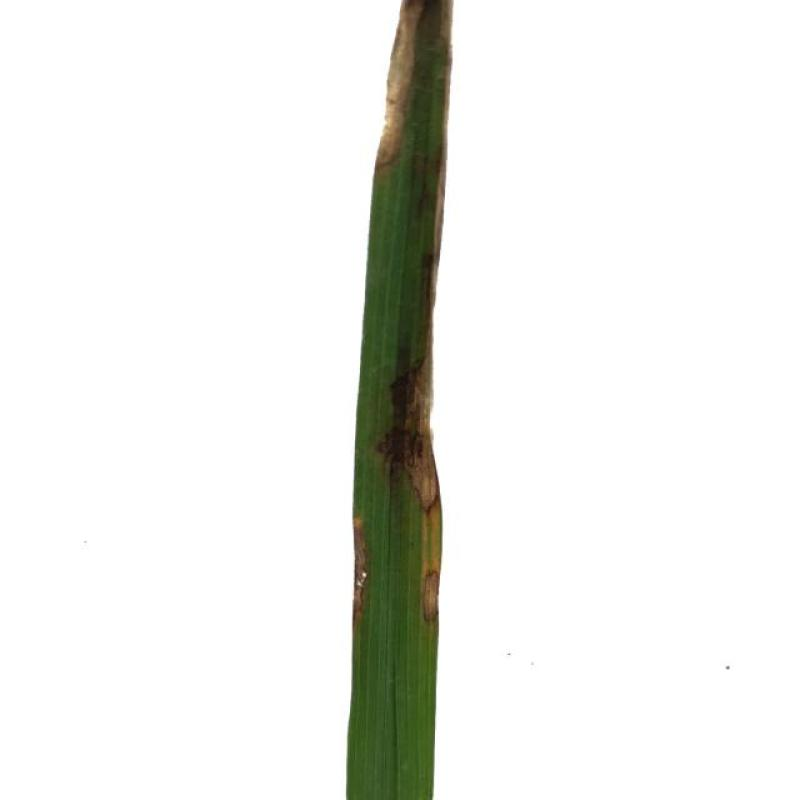Bacterial_Leaf_Blight: (384, 3, 458, 184), (408, 458, 452, 622), (381, 325, 431, 469), (353, 509, 384, 629)
